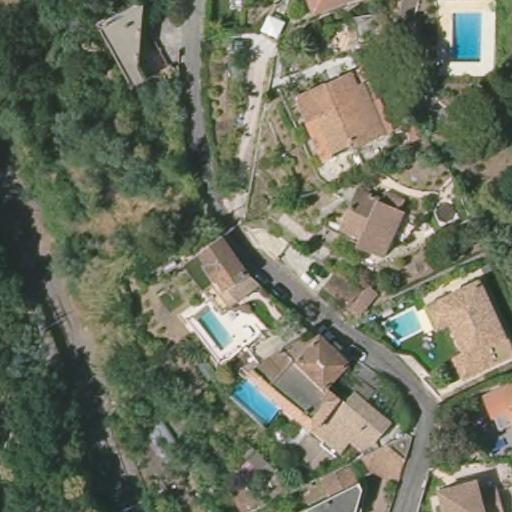pool: (227, 377, 280, 425), (446, 7, 486, 66), (193, 302, 235, 349), (379, 308, 424, 340)
